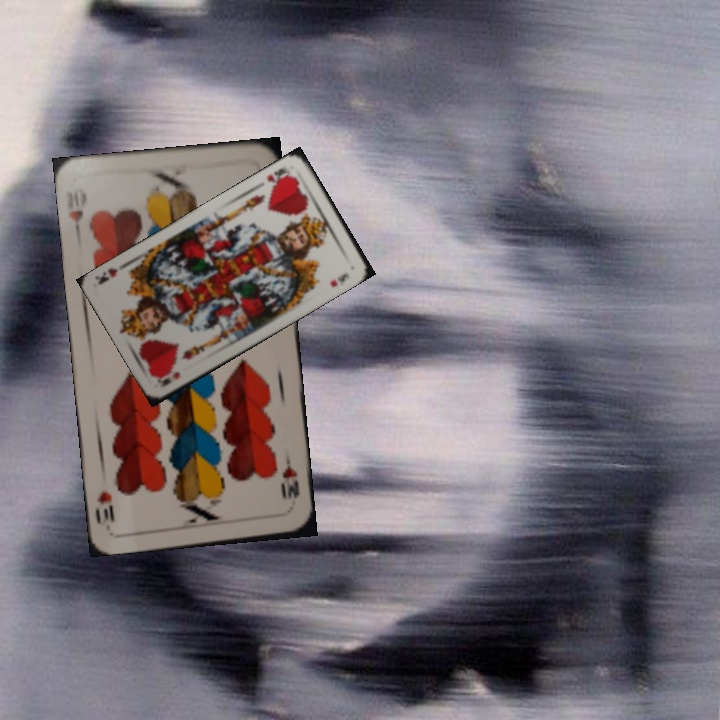H10: (64, 184, 90, 240), (277, 452, 302, 503)
HK: (262, 164, 295, 189), (154, 367, 183, 389)
